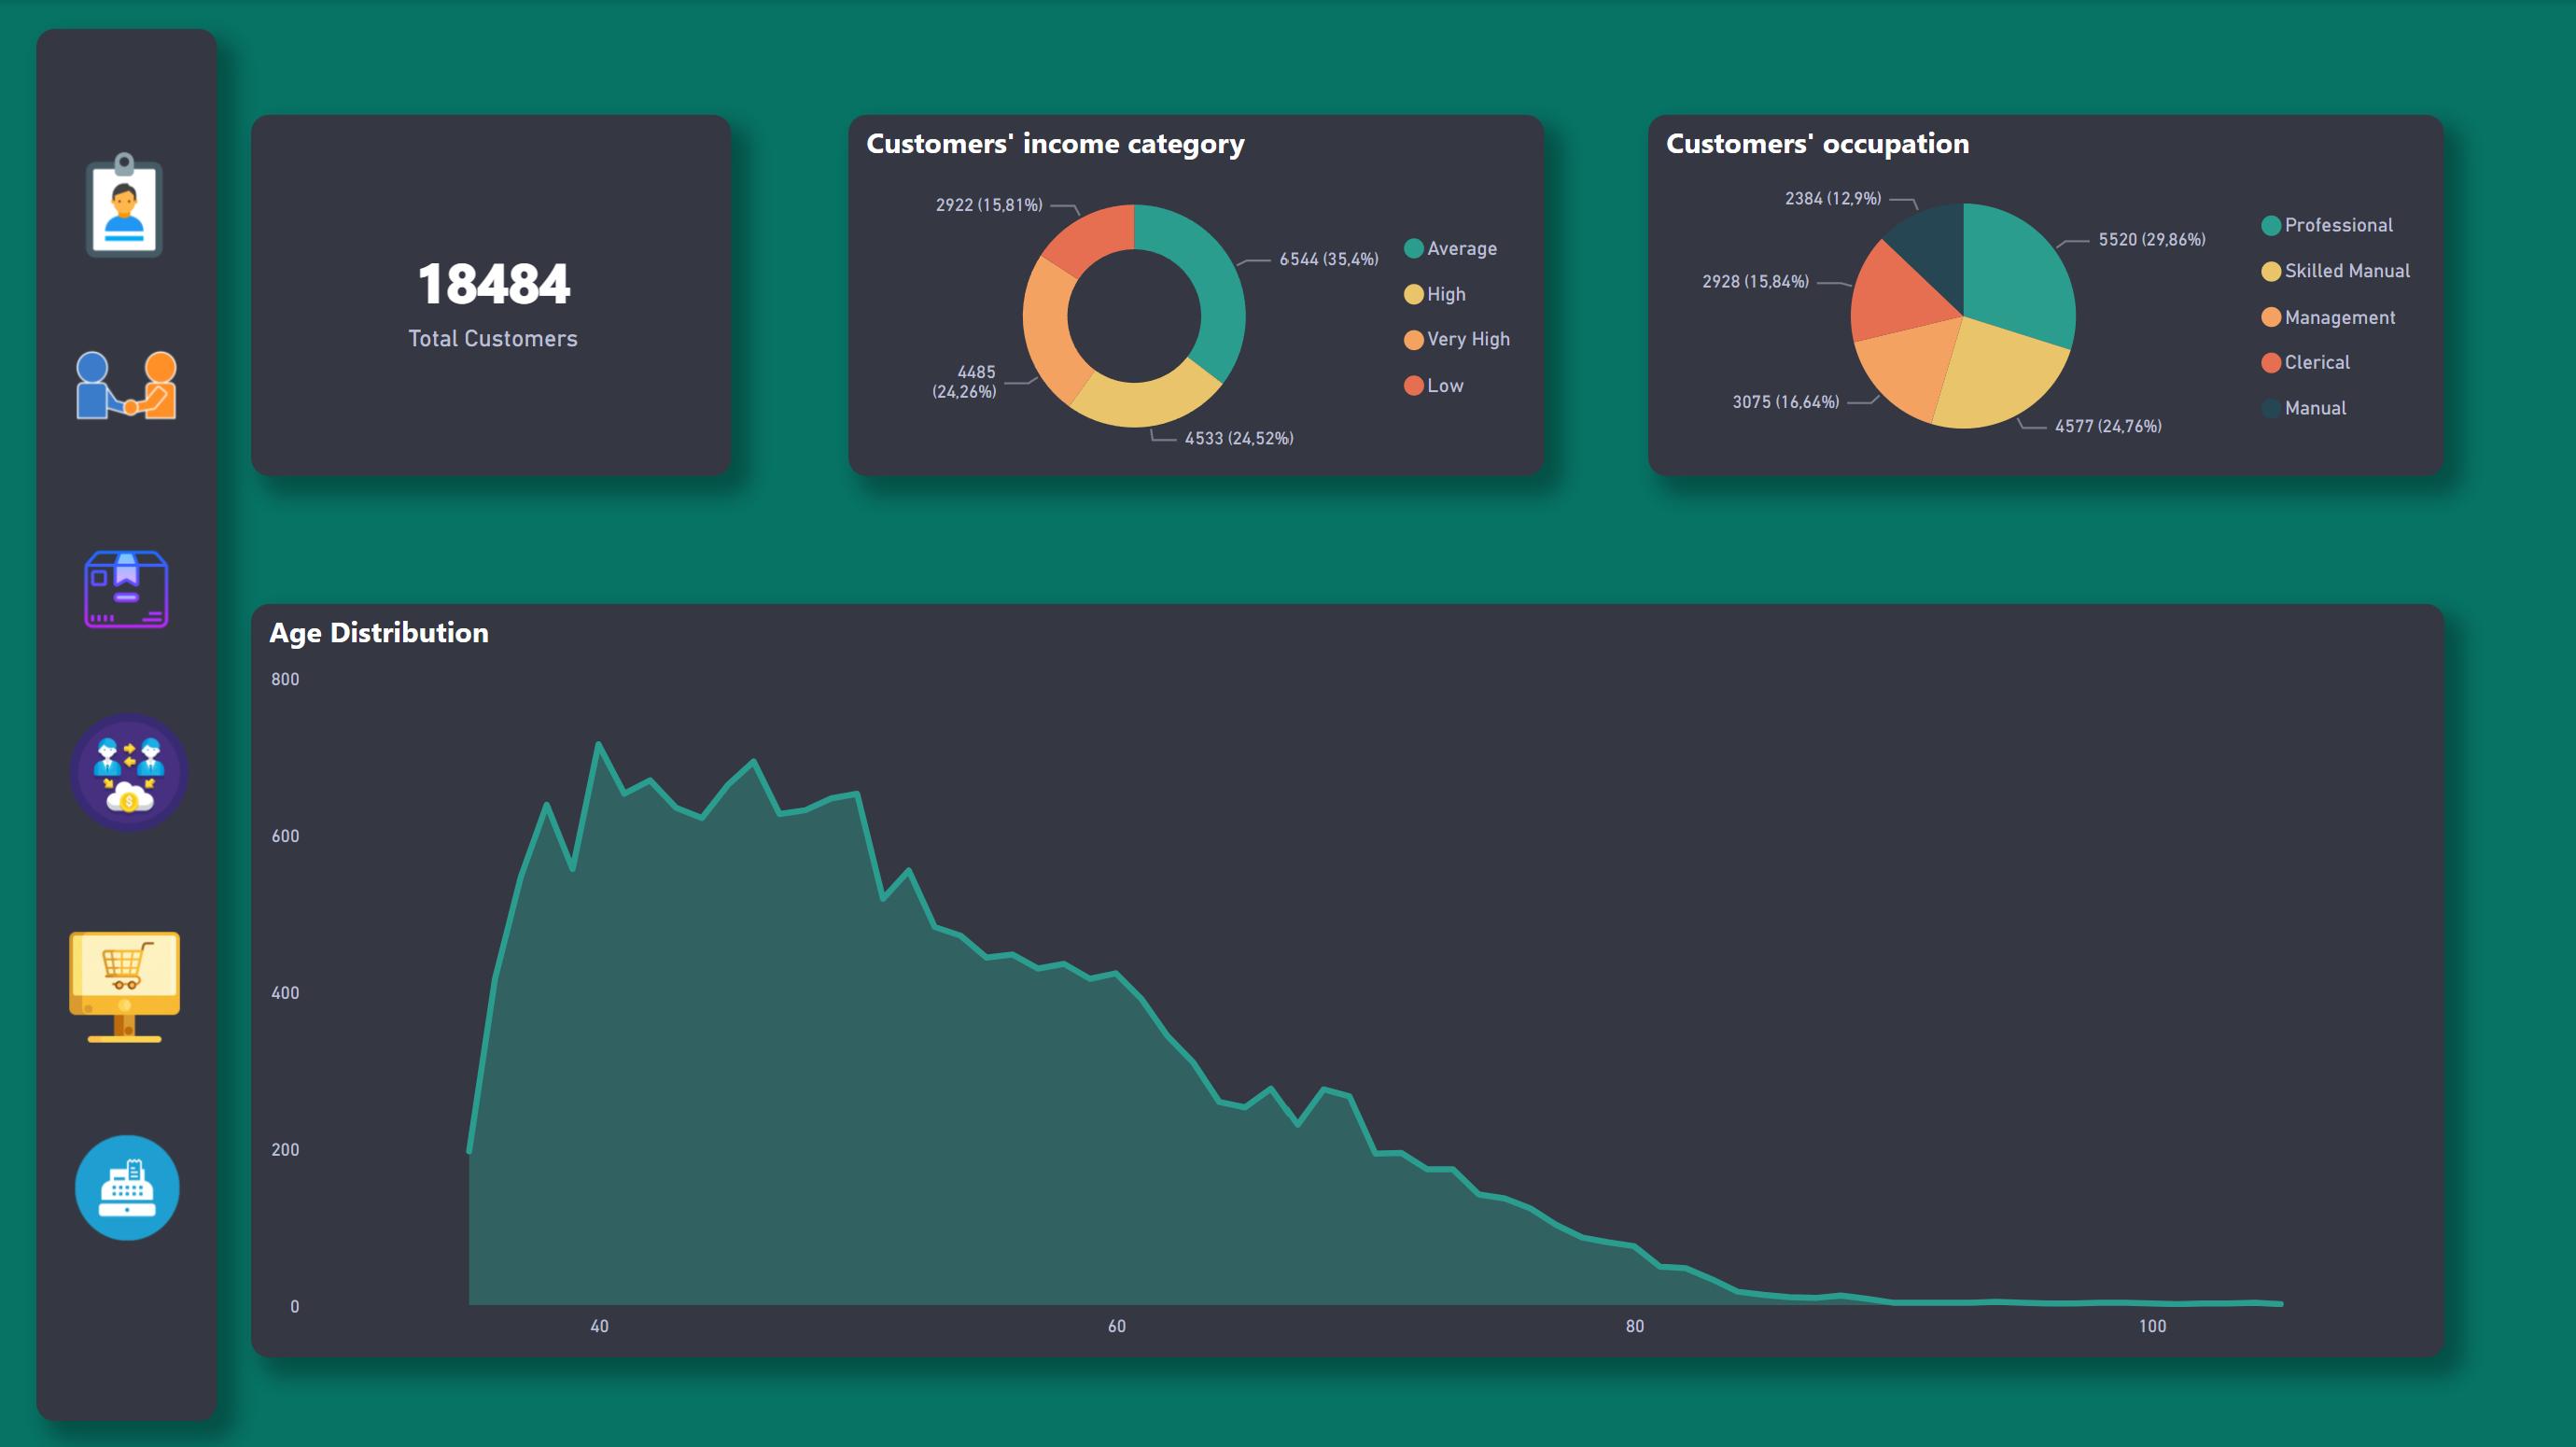

Layout of this report page (visuals, bound fields, positions):
{"tool":"powerbi","page":{"name":"Customer","canvas":[1280,720],"ordinal":1},"visuals":[{"type":"card","title":"Total Customers","fields":{"Values":["Count(DimCustomer.CustomerKey)"]},"box":[125.9,57.6,237.9,179.2],"z":0},{"type":"donutChart","title":"Customers'' income category","fields":{"Category":["DimCustomer.IncomeCat"],"Y":["CountNonNull(DimCustomer.CustomerKey)"]},"box":[422.4,57.6,344.5,179.2],"z":1000},{"type":"pieChart","title":"Customers'' occupation","fields":{"Category":["DimCustomer.Occupation"],"Y":["Count(DimCustomer.CustomerKey)"]},"box":[818.1,57.6,394.7,179.2],"z":2000},{"type":"areaChart","title":"Age Distribution","fields":{"Category":["DimCustomer.Age"],"Y":["Count(DimCustomer.CustomerKey)"]},"box":[125.9,299.7,1086.9,373.3],"z":3000},{"type":"shape","box":[19.2,14.9,89.6,690.1],"z":4000},{"type":"actionButton","title":"Employee","box":[30.9,67.2,65.1,69.3],"z":5000},{"type":"actionButton","box":[30.9,152.5,65.1,75.7],"z":6000},{"type":"actionButton","box":[30.9,253.9,65.1,75.7],"z":7000},{"type":"actionButton","box":[25.6,343.5,76.8,77.9],"z":8000},{"type":"actionButton","box":[25.6,452.3,76.8,72.5],"z":9000},{"type":"actionButton","box":[30.9,552.5,66.1,71.5],"z":10000}]}

Visuals, with their boxes on the page's 1280x720 design canvas (x1, y1, x2, y2). These are canvas units, not pixel positions in the 2576x1447 screenshot, which may show the page scaled, cropped or inside an application window:
"Total Customers" card: {"left": 126, "top": 58, "right": 364, "bottom": 237}
"Customers'' income category" donutChart: {"left": 422, "top": 58, "right": 767, "bottom": 237}
"Customers'' occupation" pieChart: {"left": 818, "top": 58, "right": 1213, "bottom": 237}
"Age Distribution" areaChart: {"left": 126, "top": 300, "right": 1213, "bottom": 673}
shape: {"left": 19, "top": 15, "right": 109, "bottom": 705}
"Employee" actionButton: {"left": 31, "top": 67, "right": 96, "bottom": 136}
actionButton: {"left": 31, "top": 152, "right": 96, "bottom": 228}
actionButton: {"left": 31, "top": 254, "right": 96, "bottom": 330}
actionButton: {"left": 26, "top": 344, "right": 102, "bottom": 421}
actionButton: {"left": 26, "top": 452, "right": 102, "bottom": 525}
actionButton: {"left": 31, "top": 552, "right": 97, "bottom": 624}
